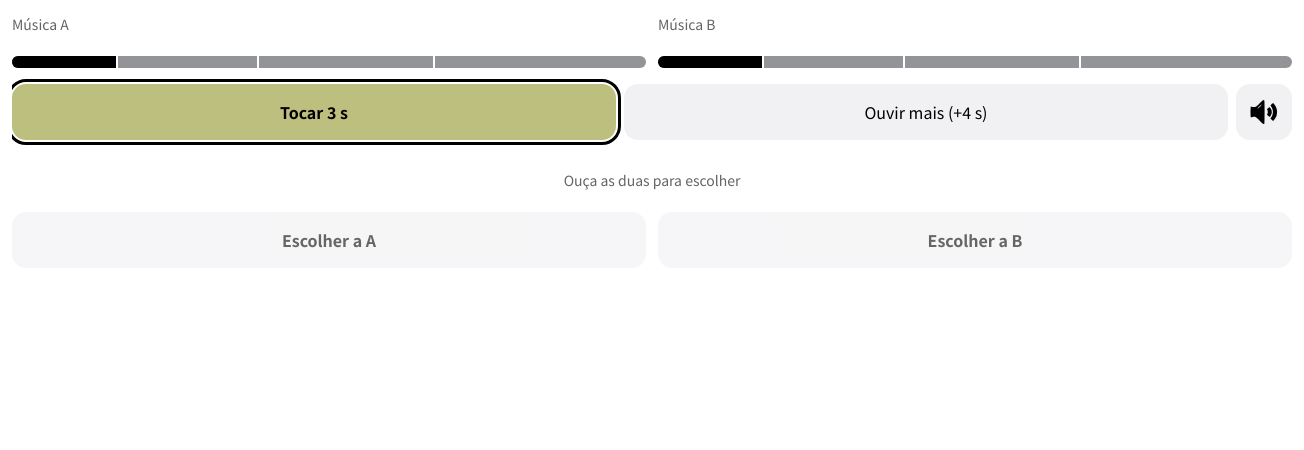
Test: QuizRoundView (M18) › escolher para o som e mostra a revelação
This screenshot has width=1304, height=450.
Click the button "Tocar 3 s": (314, 112) [12, 84, 616, 140]
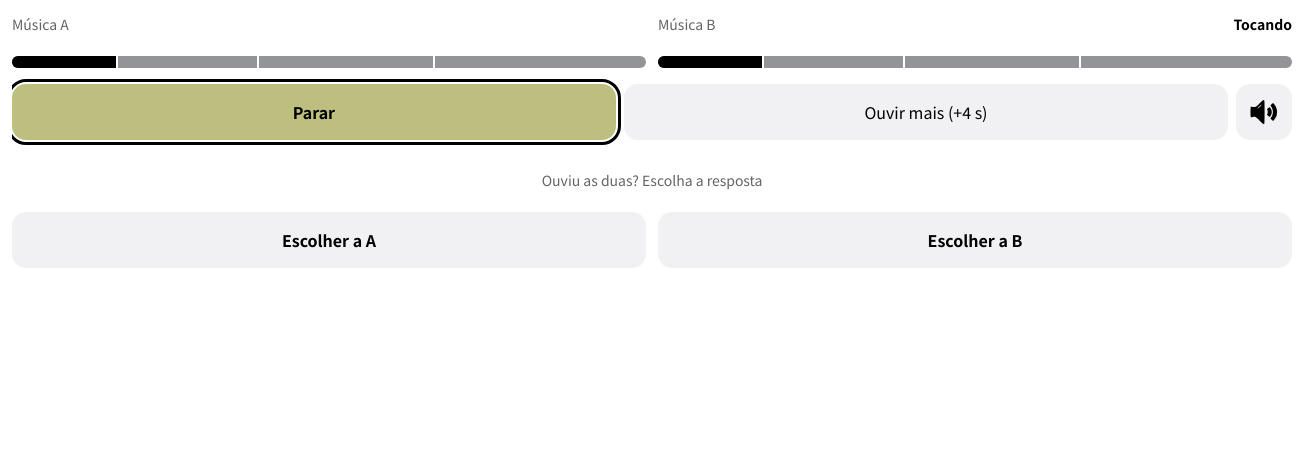
Click the button "Escolher a A": (329, 240) [12, 212, 646, 268]
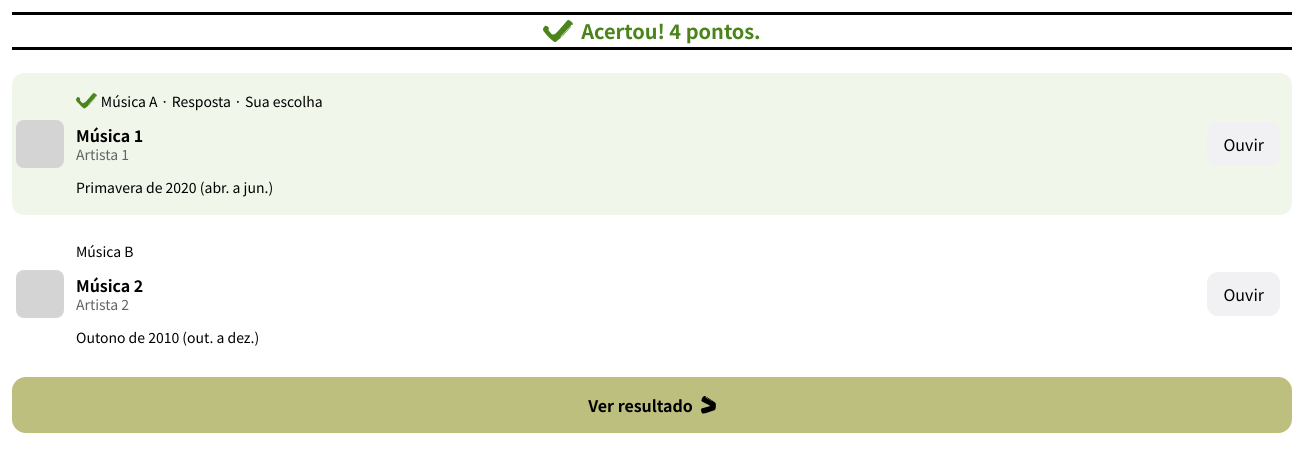
Check: the heading "Acertou! 4 pontos." is shown, box [543, 16, 761, 45]
Check: the text "Primavera de 2020 (abr. a jun.)" is shown, box [76, 177, 273, 197]
